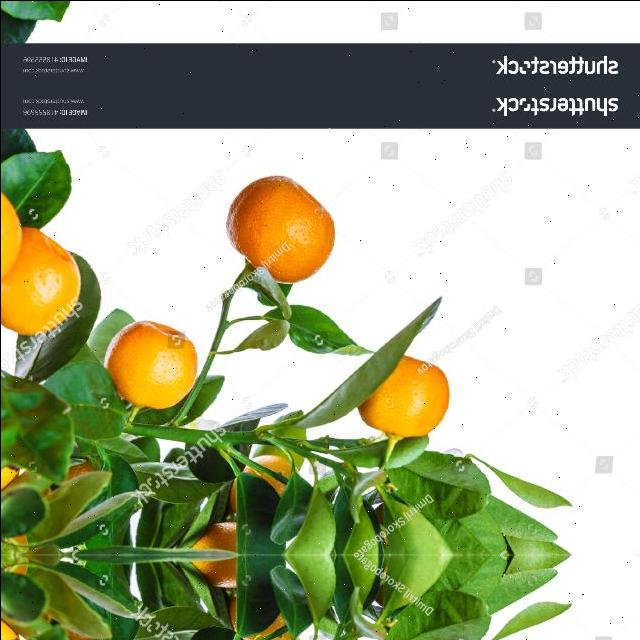Orange: (226, 175, 335, 284), (1, 226, 81, 336), (105, 320, 198, 410), (358, 355, 450, 439), (1, 185, 22, 286)
